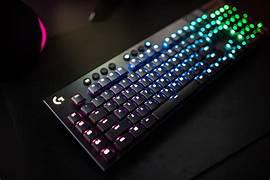keyboard: (41, 0, 266, 172)
